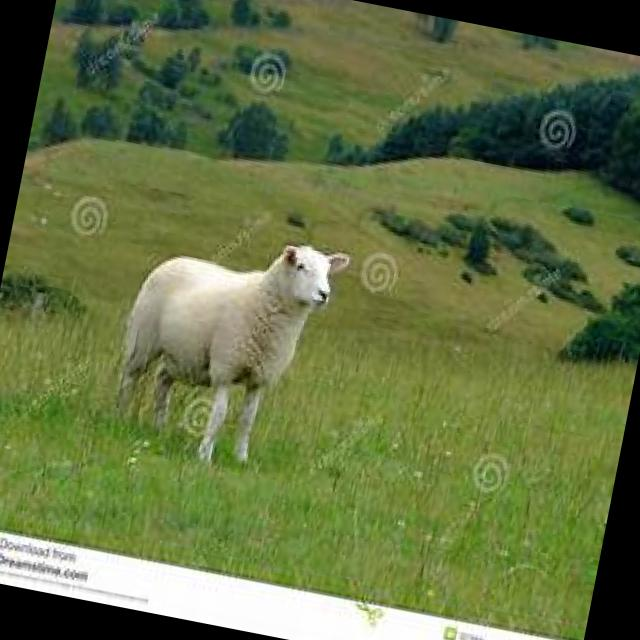sheep: (104, 214, 356, 471)
